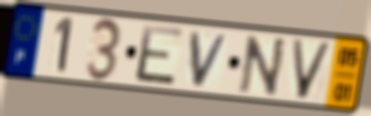1: (52, 16, 73, 77)
3: (84, 15, 124, 85)
E: (133, 22, 186, 89)
N: (237, 34, 290, 99)
V: (289, 37, 336, 102), (188, 30, 232, 90)
